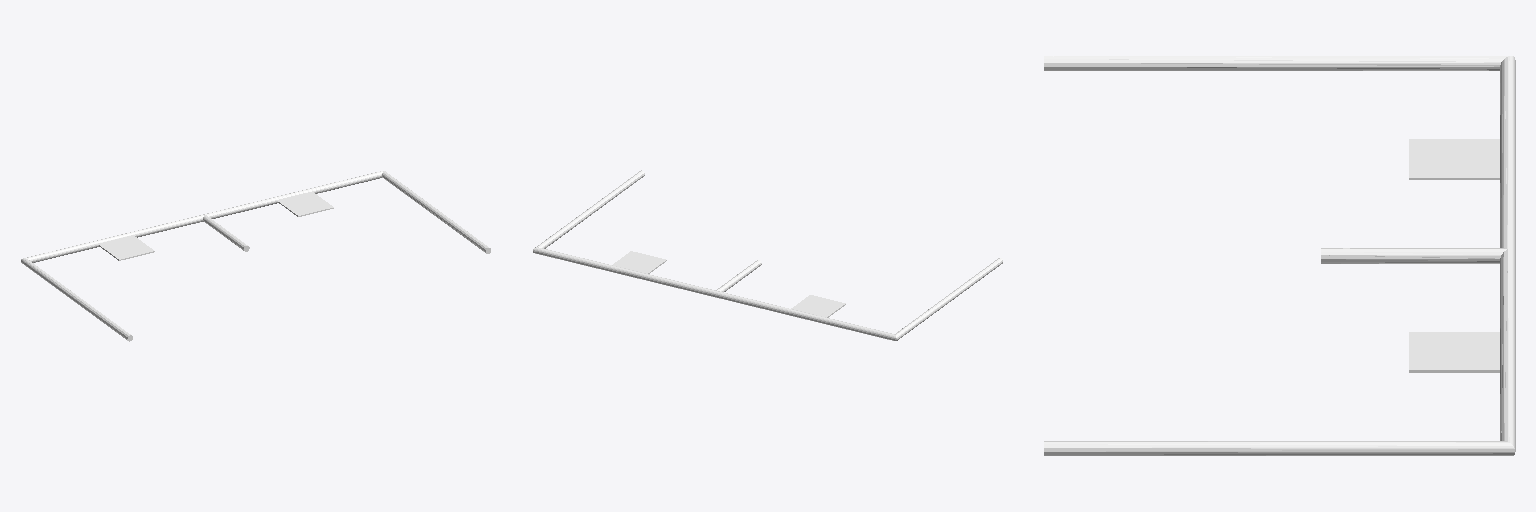
URDF robot description (rs2026_gate):
<?xml version="1.0" encoding="utf-8"?>
<!-- This URDF was automatically created by SolidWorks to URDF Exporter! Originally created by Stephen Brawner (brawner@gmail.com) 
     Commit Version: 1.6.0-4-g7f85cfe  Build Version: 1.6.7995.38578
     For more information, please see http://wiki.ros.org/sw_urdf_exporter -->
<robot
  name="rs2026_gate">
  <link
    name="base_link">
    <inertial>
      <origin
        xyz="8.6159E-05 2.2529E-06 -0.26534"
        rpy="0 0 0" />
      <mass
        value="15.543" />
      <inertia
        ixx="3.2566"
        ixy="-1.1467E-05"
        ixz="-0.00030835"
        iyy="23.727"
        iyz="2.6926E-06"
        izz="20.475" />
    </inertial>
    <visual>
      <origin
        xyz="0 0 0"
        rpy="0 0 0" />
      <geometry>
        <mesh
          filename="package://rs2026_gate/meshes/base_link.STL" />
      </geometry>
      <material
        name="">
        <color
          rgba="1 1 1 1" />
      </material>
    </visual>
    <collision>
      <origin
        xyz="0 0 0"
        rpy="0 0 0" />
      <geometry>
        <mesh
          filename="package://rs2026_gate/meshes/base_link.STL" />
      </geometry>
    </collision>
  </link>
</robot>

--- What the picture shows (computed from the rendered views, not written in the file) ---
3 views of the same robot in one strip: view 1: azimuth 30°, elevation 25°; view 2: azimuth 150°, elevation 25°; view 3: azimuth 270°, elevation 25° (orthographic).
Robot: rs2026_gate — 1 links, 0 joints (none); root link base_link; default pose: all joints at 0.
Visible links, largest first — view 1: base_link; view 2: base_link; view 3: base_link.
Boxes of the visible links, x1,y1,x2,y2 form: base_link: (21,171,490,341); base_link: (533,170,1002,340); base_link: (1044,56,1515,455).
Size in the robot's own frame: 3.1 by 1.57 by 0.0508 metres.
Meshes: 1 distinct files referenced, 1 mesh visuals loaded (1 binary STL).
